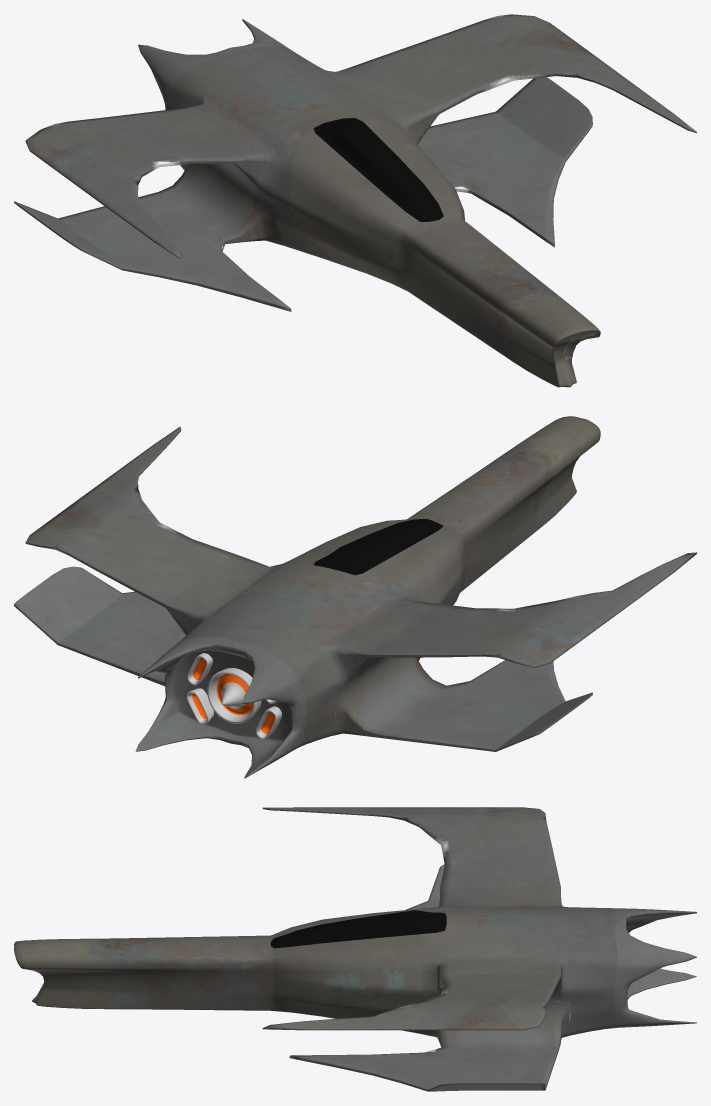
The model's file is Ship.FBX.
3 views of the same model, one above another, from view 1: azimuth 30°, elevation 25°; view 2: azimuth 150°, elevation 25°; view 3: azimuth 270°, elevation 25° (orthographic). The views are drawn at different scales.
Visible parts, largest first — view 1: PS_MainShip; view 2: PS_MainShip; view 3: PS_MainShip.
Part boxes in pixels (box(x1,y1,x2,y2)): PS_MainShip: box(14, 14, 696, 387); PS_MainShip: box(14, 416, 696, 778); PS_MainShip: box(14, 807, 696, 1091).
Size of the model in its own units: 214 by 42.68 by 275.
